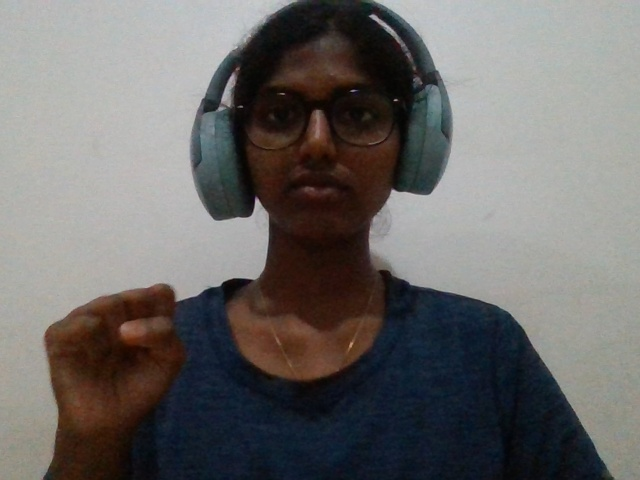Yes: (21, 277, 208, 450)
